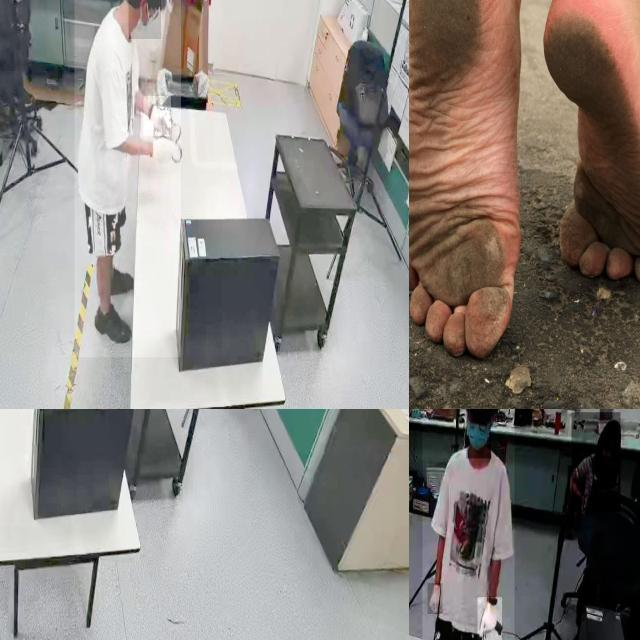Barefoots: (409, 0, 521, 359), (543, 0, 640, 284)
face_mask: (128, 0, 161, 39), (466, 409, 491, 458)
face_nomask: (601, 444, 614, 464)
hand_glove: (147, 130, 180, 175), (143, 96, 171, 136), (477, 597, 502, 640), (427, 583, 443, 615)
hand_noglove: (578, 494, 590, 516)
head_nohelmet: (599, 418, 625, 441)
person: (74, 0, 181, 358), (422, 409, 515, 640), (571, 412, 621, 513)
shoes: (92, 300, 136, 350), (96, 260, 136, 302)
